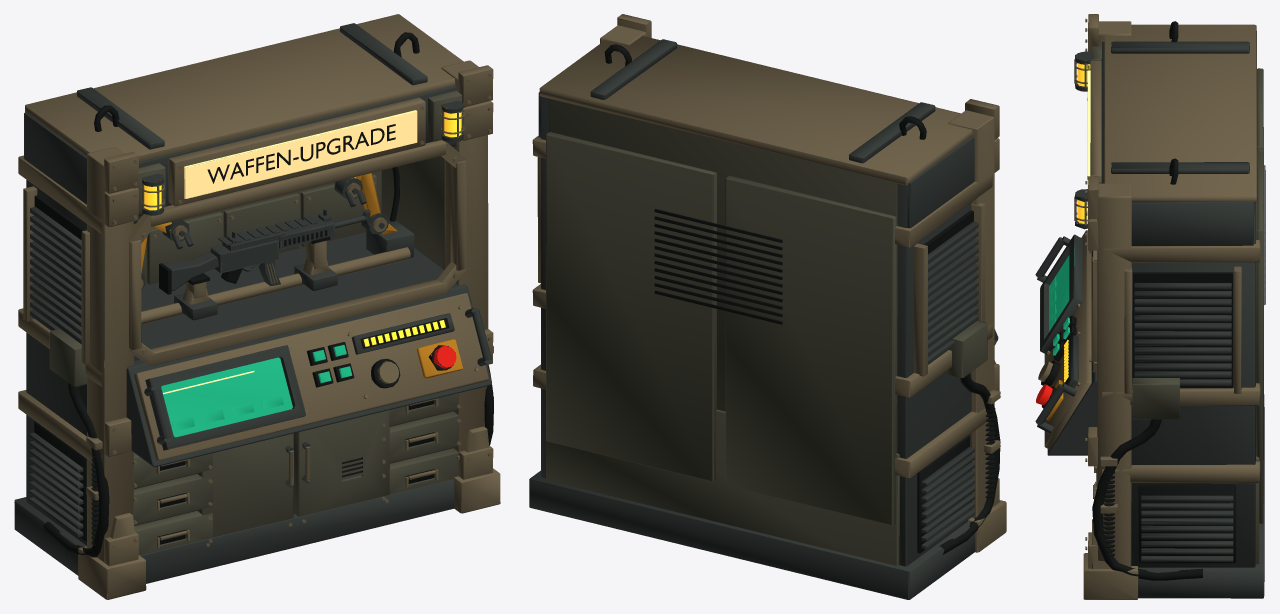
Rendered from upgrade_bay.glb.
3 renders of one model, left to right at view 1: azimuth 30°, elevation 25°; view 2: azimuth 150°, elevation 25°; view 3: azimuth 270°, elevation 25°, orthographic. The views are drawn at different scales.
Parts seen in each view (by area): view 1: upgrade_bay; view 2: upgrade_bay; view 3: upgrade_bay.
Part boxes in pixels (bbox=[...]): upgrade_bay: bbox=[14, 14, 500, 599]; upgrade_bay: bbox=[529, 14, 1006, 599]; upgrade_bay: bbox=[1035, 14, 1265, 599].
Bounding box in the file's own units: 2.16 × 2.27 × 1.13.
Materials: 1 (1 with a texture image).
